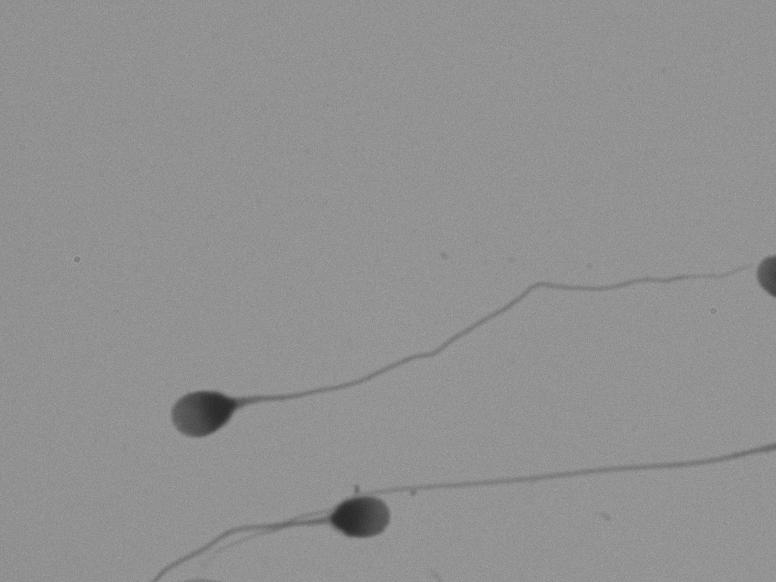Normal: (98, 245, 717, 443), (119, 468, 410, 572)
